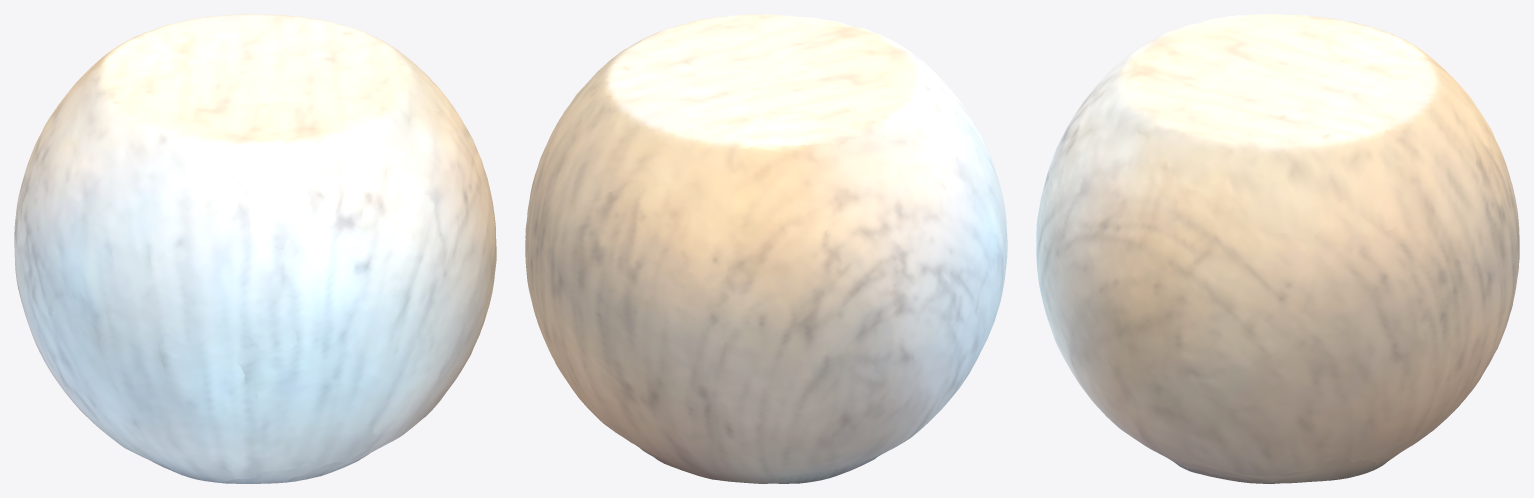
Rendered from Marble.glb.
3 views of the same model, side by side, from view 1: azimuth 30°, elevation 25°; view 2: azimuth 150°, elevation 25°; view 3: azimuth 270°, elevation 25° (orthographic).
Visible parts, largest first — view 1: Object_2; view 2: Object_2; view 3: Object_2.
Boxes of the visible parts, <box> form: Object_2: <box>14,14,496,483</box>; Object_2: <box>525,14,1007,483</box>; Object_2: <box>1036,14,1519,483</box>.
Bounding box in the file's own units: 0.7645 × 0.6153 × 0.7642.
1 material, 1 textured.
